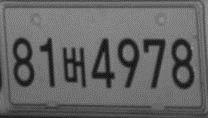1: (38, 36, 55, 87)
4: (90, 37, 116, 88)
7: (142, 37, 166, 88)
8: (170, 37, 195, 89), (12, 37, 34, 87)
9: (116, 37, 139, 89)
버: (62, 45, 86, 88)
